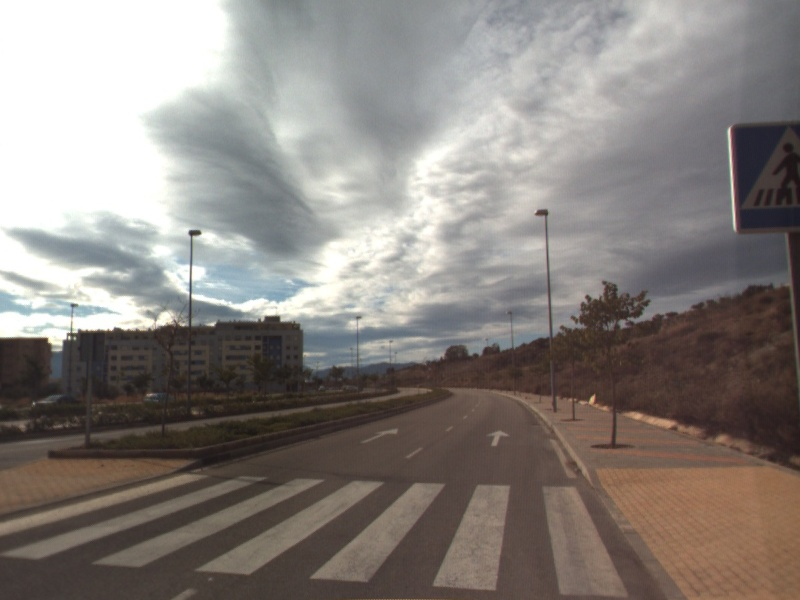STRAIGHT: (358, 426, 400, 445), (484, 428, 512, 448)
